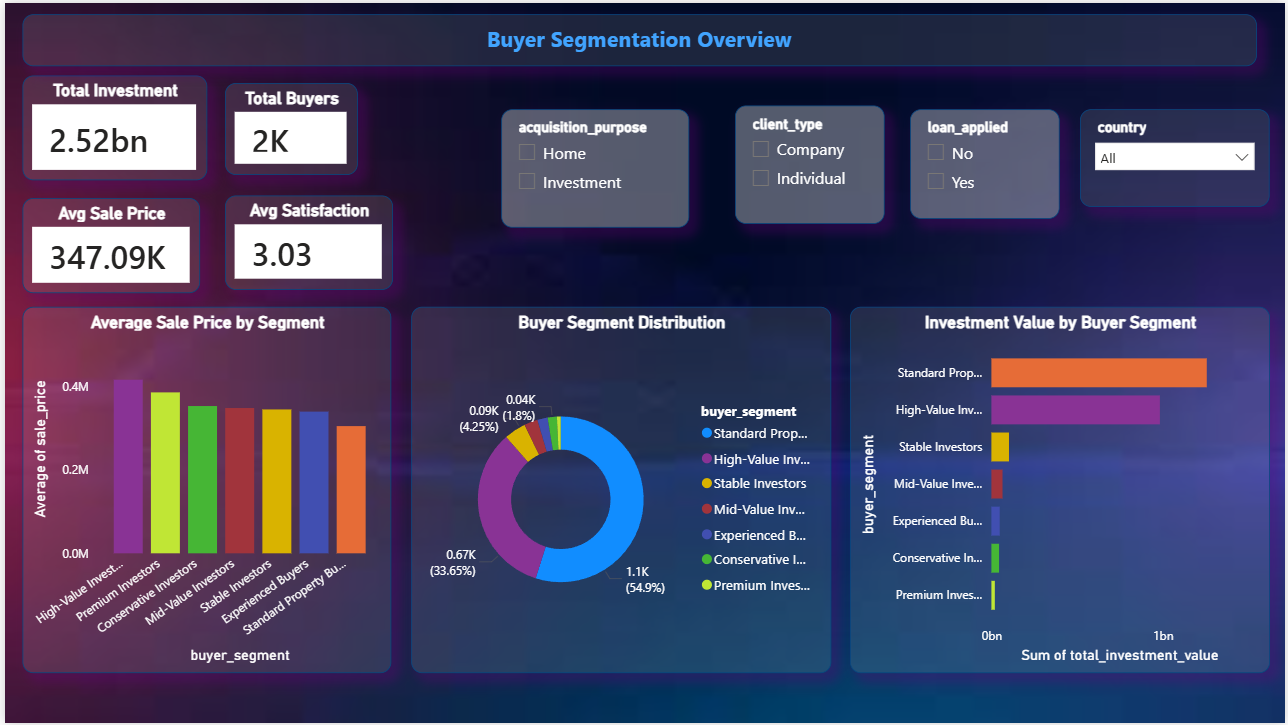

Layout of this report page (visuals, bound fields, positions):
{"tool":"powerbi","page":{"name":"dashboard 1","canvas":[1280,720],"ordinal":0},"visuals":[{"type":"cardVisual","title":"Total Investment","fields":{"Data":["buyer_segmentation_final.Total Investment"]},"box":[18.1,72.4,184.6,105],"z":0},{"type":"cardVisual","title":"Avg Sale Price","fields":{"Data":["buyer_segmentation_final.Avg Sale Price"]},"box":[18.1,195.4,177.3,95.3],"z":1000},{"type":"cardVisual","title":"Avg Satisfaction","fields":{"Data":["buyer_segmentation_final.Avg Satisfaction"]},"box":[219.6,193,167.7,94.1],"z":2000},{"type":"donutChart","title":"Buyer Segment Distribution","fields":{"Category":["buyer_segmentation_final.buyer_segment"],"Y":["CountNonNull(buyer_segmentation_final.client_id)"]},"box":[406.6,304,419.8,366.8],"z":3000},{"type":"clusteredBarChart","title":"Investment Value by Buyer Segment","fields":{"Category":["buyer_segmentation_final.buyer_segment"],"Y":["Sum(buyer_segmentation_final.total_investment_value)"]},"box":[844.5,304,419.8,366.8],"z":4000},{"type":"textbox","box":[18.1,10.9,1234.2,51.9],"z":5000},{"type":"cardVisual","title":"Total Buyers","fields":{"Data":["buyer_segmentation_final.Total Buyers"]},"box":[219.6,79.6,132.7,91.7],"z":7000},{"type":"clusteredColumnChart","title":"Average Sale Price by Segment","fields":{"Category":["buyer_segmentation_final.buyer_segment"],"Y":["Avg(buyer_segmentation_final.sale_price)"]},"box":[18.1,304,369.2,366.8],"z":8000},{"type":"slicer","fields":{"Values":["buyer_segmentation_final.country"]},"box":[1074.9,106.2,189.4,97.7],"z":9000},{"type":"slicer","fields":{"Values":["buyer_segmentation_final.acquisition_purpose"]},"box":[495.8,106.2,188.2,118.2],"z":10000},{"type":"slicer","fields":{"Values":["buyer_segmentation_final.client_type"]},"box":[729.9,102.5,149.6,118.2],"z":11000},{"type":"slicer","fields":{"Values":["buyer_segmentation_final.loan_applied"]},"box":[904.8,106.2,149.6,109.8],"z":12000}]}

Visuals, with their boxes in screenshot pixels (x1, y1, x2, y2), scaled from the page's 1280x720 canvas onto the 1288x725 screenshot:
"Total Investment" cardVisual: bbox=(18, 73, 204, 179)
"Avg Sale Price" cardVisual: bbox=(18, 197, 197, 293)
"Avg Satisfaction" cardVisual: bbox=(221, 194, 390, 289)
"Buyer Segment Distribution" donutChart: bbox=(409, 306, 832, 675)
"Investment Value by Buyer Segment" clusteredBarChart: bbox=(850, 306, 1272, 675)
textbox: bbox=(18, 11, 1260, 63)
"Total Buyers" cardVisual: bbox=(221, 80, 355, 172)
"Average Sale Price by Segment" clusteredColumnChart: bbox=(18, 306, 390, 675)
slicer - buyer_segmentation_final.country: bbox=(1082, 107, 1272, 205)
slicer - buyer_segmentation_final.acquisition_purpose: bbox=(499, 107, 688, 226)
slicer - buyer_segmentation_final.client_type: bbox=(734, 103, 885, 222)
slicer - buyer_segmentation_final.loan_applied: bbox=(910, 107, 1061, 218)
